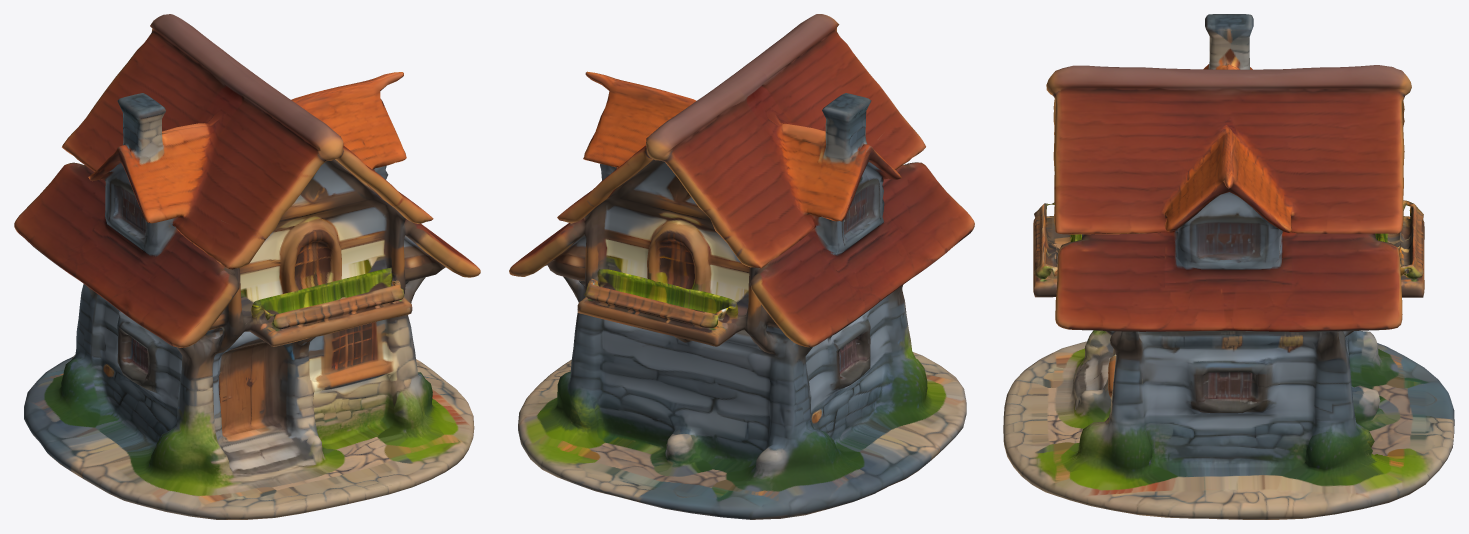
Rendered from base_basic_pbr.fbx.
3 views of the same model, side by side, from view 1: azimuth 30°, elevation 25°; view 2: azimuth 150°, elevation 25°; view 3: azimuth 270°, elevation 25° (orthographic). The views are drawn at different scales.
Parts seen in each view (by area): view 1: model; view 2: model; view 3: model.
Part boxes in pixels (<box>): model: <box>14,14,480,519</box>; model: <box>509,14,974,519</box>; model: <box>1003,14,1454,519</box>.
Size of the model in its own units: 161 by 160 by 166.
1 material, 1 textured.
